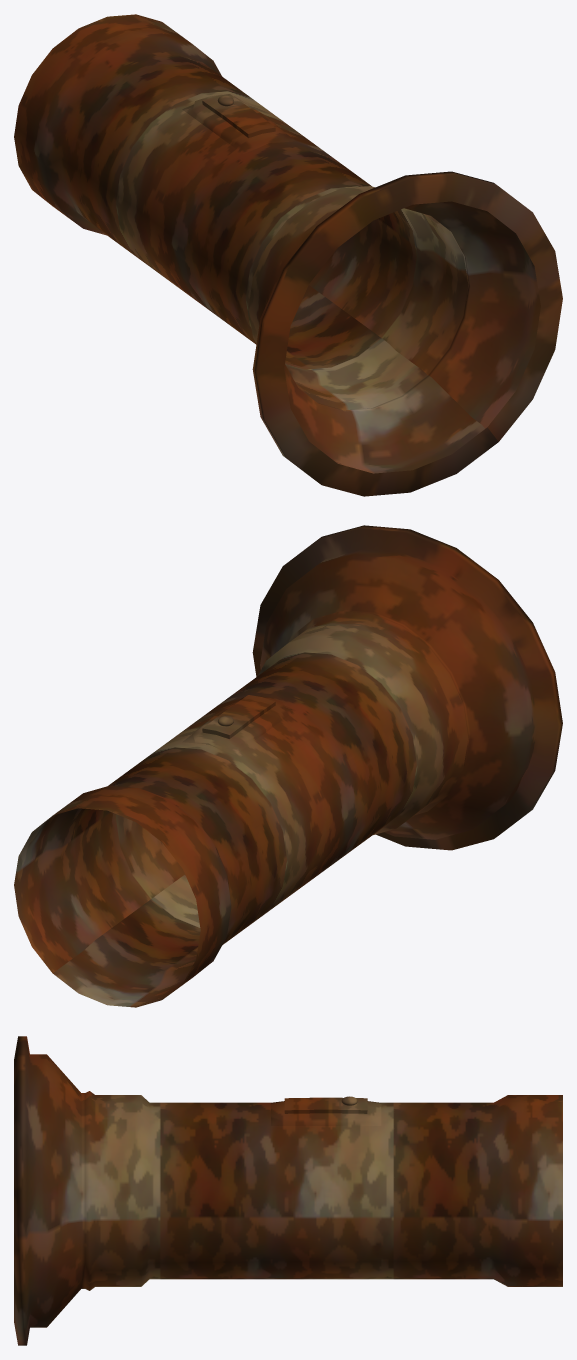
Rendered from flashlightCase.fbx.
The picture shows the model from 3 angles, top to bottom: view 1: azimuth 30°, elevation 25°; view 2: azimuth 150°, elevation 25°; view 3: azimuth 270°, elevation 25°; orthographic projection. The views are drawn at different scales.
Visible parts, largest first — view 1: polySurface1; view 2: polySurface1; view 3: polySurface1.
Part boxes in pixels (x1,y1,x2,y2): polySurface1: (14,14,562,496); polySurface1: (14,525,562,1007); polySurface1: (14,1036,562,1345).
Size of the model in its own units: 7.17 by 7.03 by 12.41.
